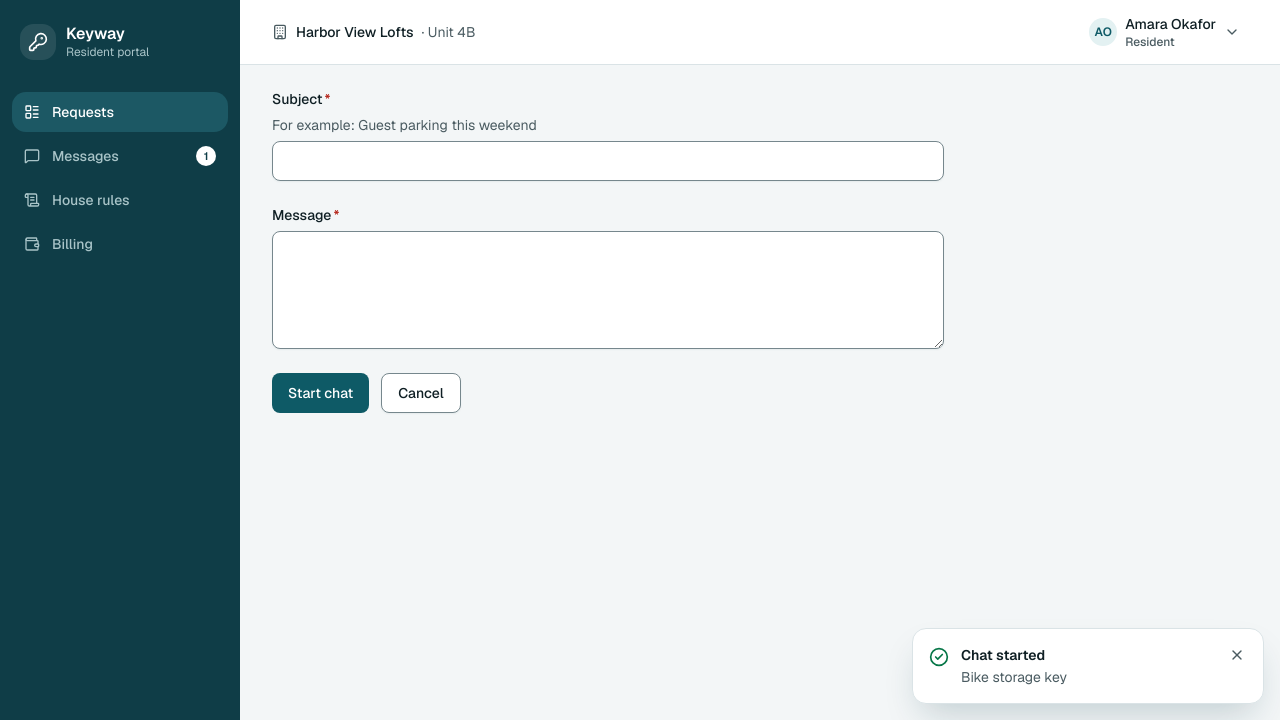
Test: NewChatForm › shows inline errors and sends nothing when fields are missing
What coordinates should you click on to do the following:
click the button "Start chat"
I would click on:
 (321, 393)
Its box is 272,373 -> 369,413.
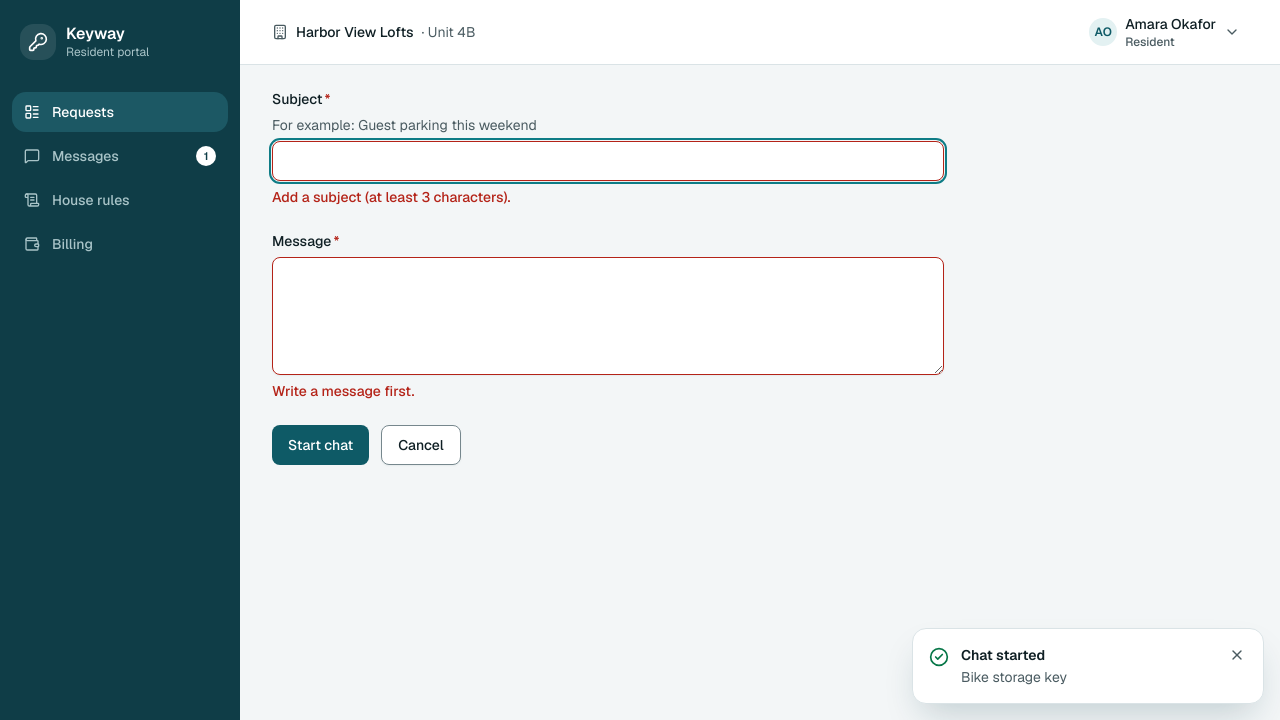
expect the text "Add a subject (at least 3 characters)." is shown: met, box 272,188 -> 511,206
expect the text "Write a message first." is shown: met, box 272,382 -> 414,400
